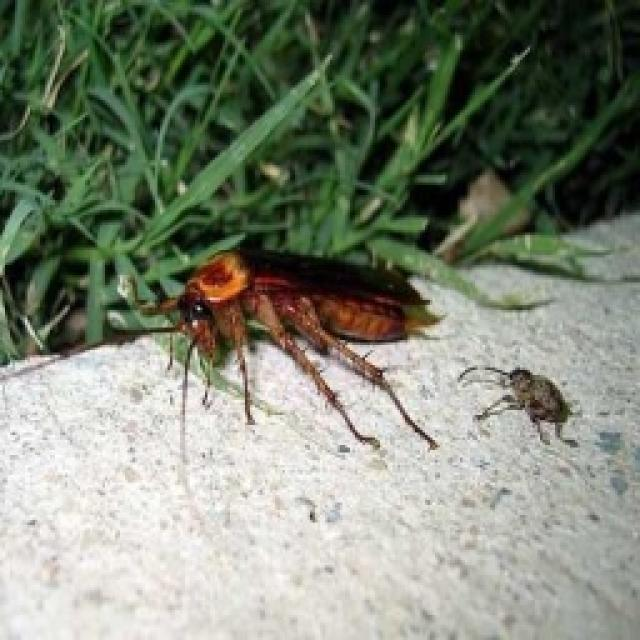cockroach: (129, 242, 446, 456)
